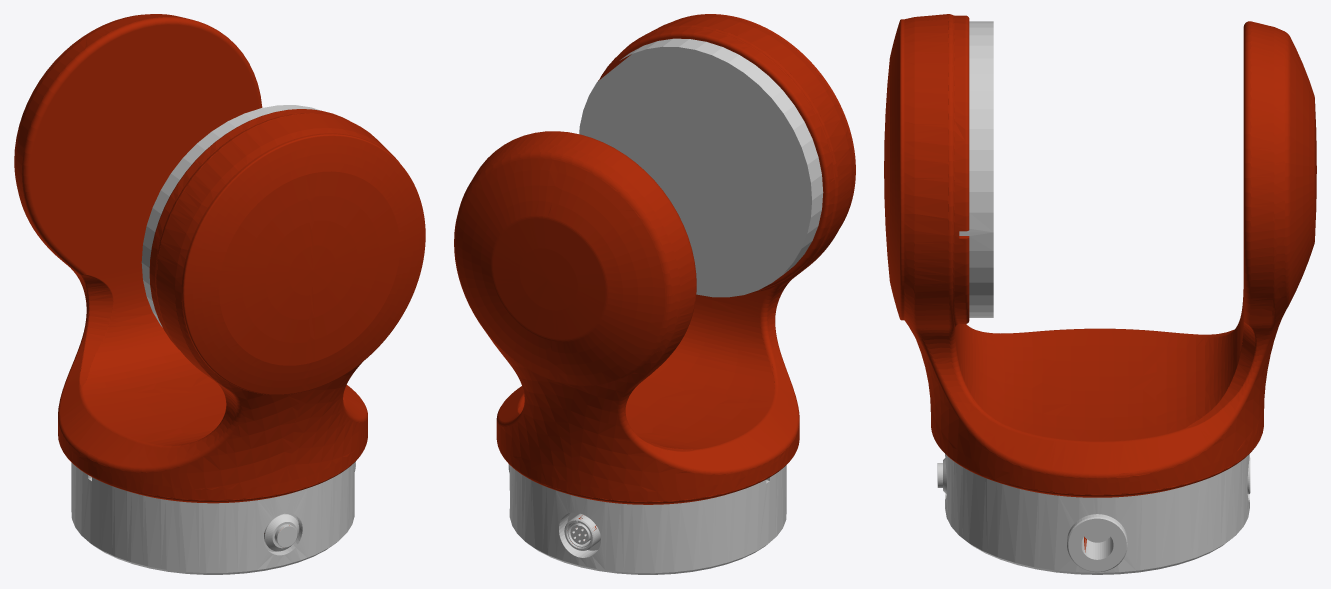
3 views of the same model, side by side, from view 1: azimuth 30°, elevation 25°; view 2: azimuth 150°, elevation 25°; view 3: azimuth 270°, elevation 25° (orthographic). The views are drawn at different scales.
Visible parts, largest first — view 1: Link7; view 2: Link7; view 3: Link7.
Part boxes in pixels (x1=…): Link7: x1=14, y1=14, x2=425, y2=574; Link7: x1=454, y1=14, x2=855, y2=574; Link7: x1=884, y1=14, x2=1316, y2=574.
Bounding box in the file's own units: 0.082 × 0.1334 × 0.1065.
